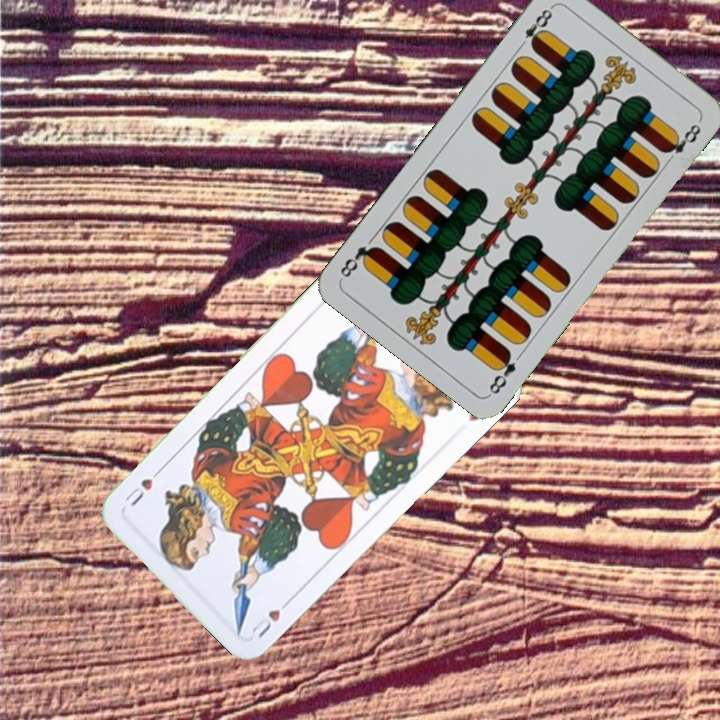E8: (484, 346, 527, 397), (514, 2, 556, 52)
HU: (247, 594, 295, 641)
